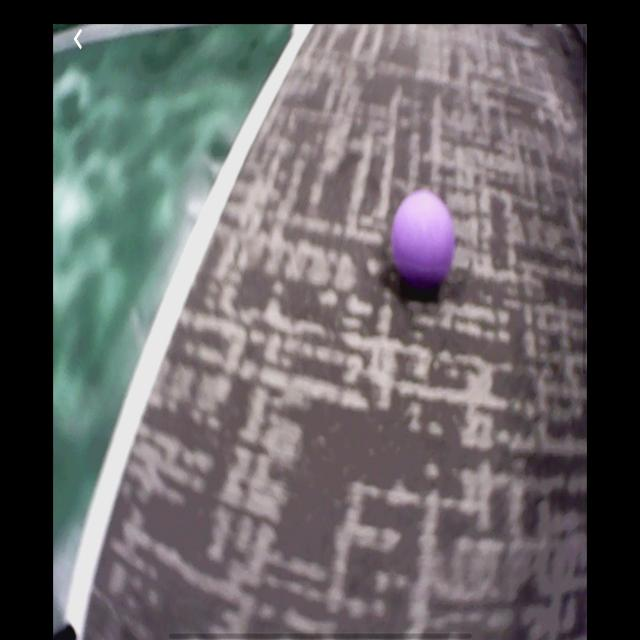ball: (394, 194, 456, 290)
